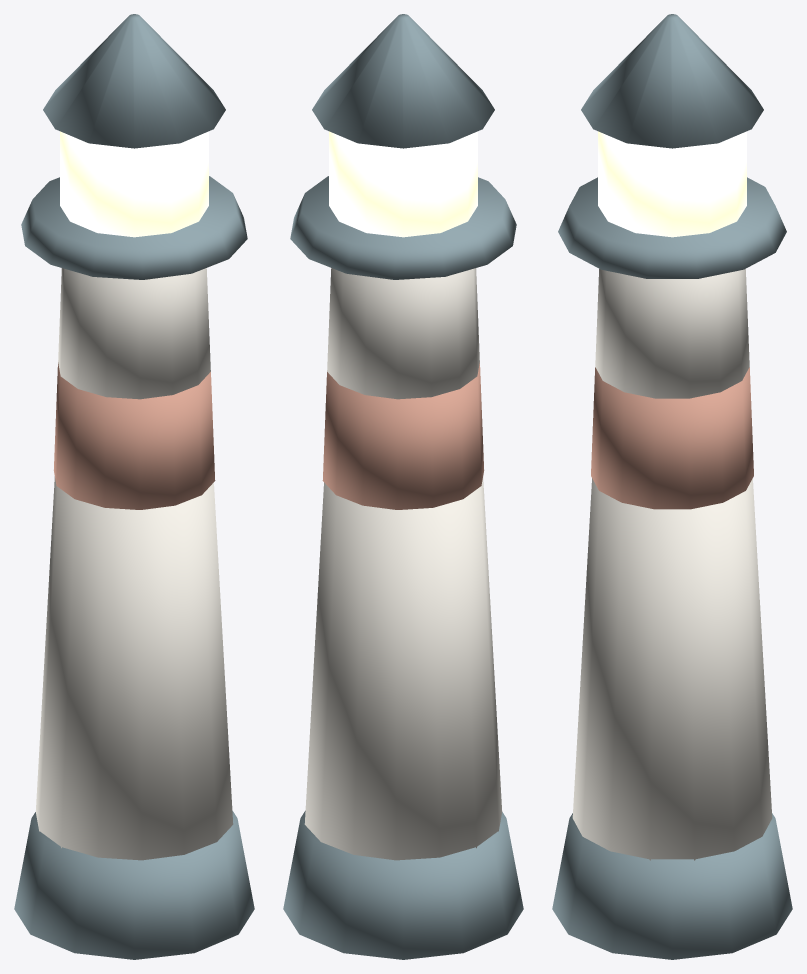
File: lighthouse.glb
3 renders of one model, left to right at view 1: azimuth 30°, elevation 25°; view 2: azimuth 150°, elevation 25°; view 3: azimuth 270°, elevation 25°, orthographic.
Visible parts, largest first — view 1: Lighthouse; view 2: Lighthouse; view 3: Lighthouse.
Part boxes in pixels (x1,y1,x2,y2): Lighthouse: (14,14,254,959); Lighthouse: (283,14,523,959); Lighthouse: (552,14,792,959).
Size of the model in its own units: 0.84 by 3.44 by 0.84.
